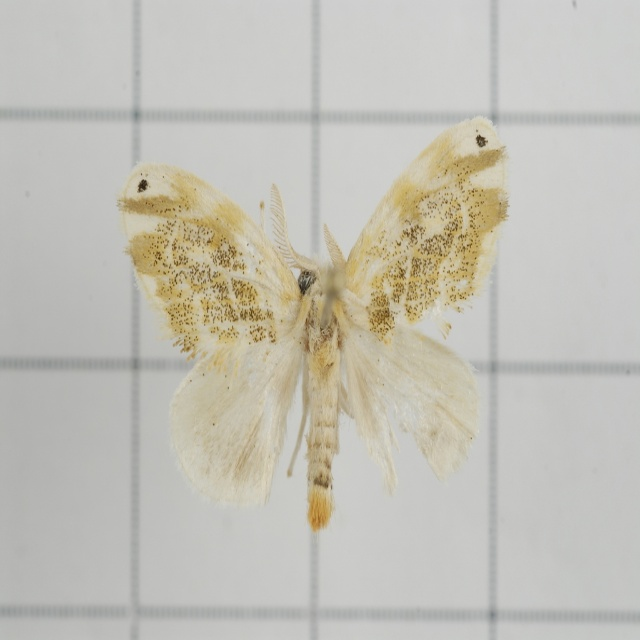Butterfly: (117, 116, 511, 532)
